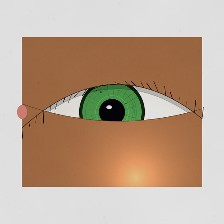hemorrhage_spot: (55, 89, 150, 164)
